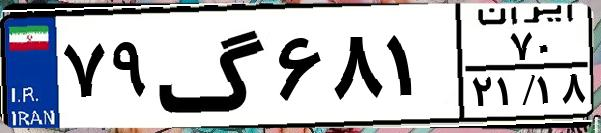0: (537, 27, 568, 80)
1: (385, 28, 445, 110), (495, 70, 520, 125), (535, 70, 560, 125)
2: (470, 70, 495, 125)
6: (270, 28, 330, 110)
7: (57, 26, 110, 100), (508, 27, 537, 80)
8: (330, 28, 385, 110), (560, 70, 590, 125)
9: (110, 28, 156, 98)
گ: (156, 12, 270, 120)
